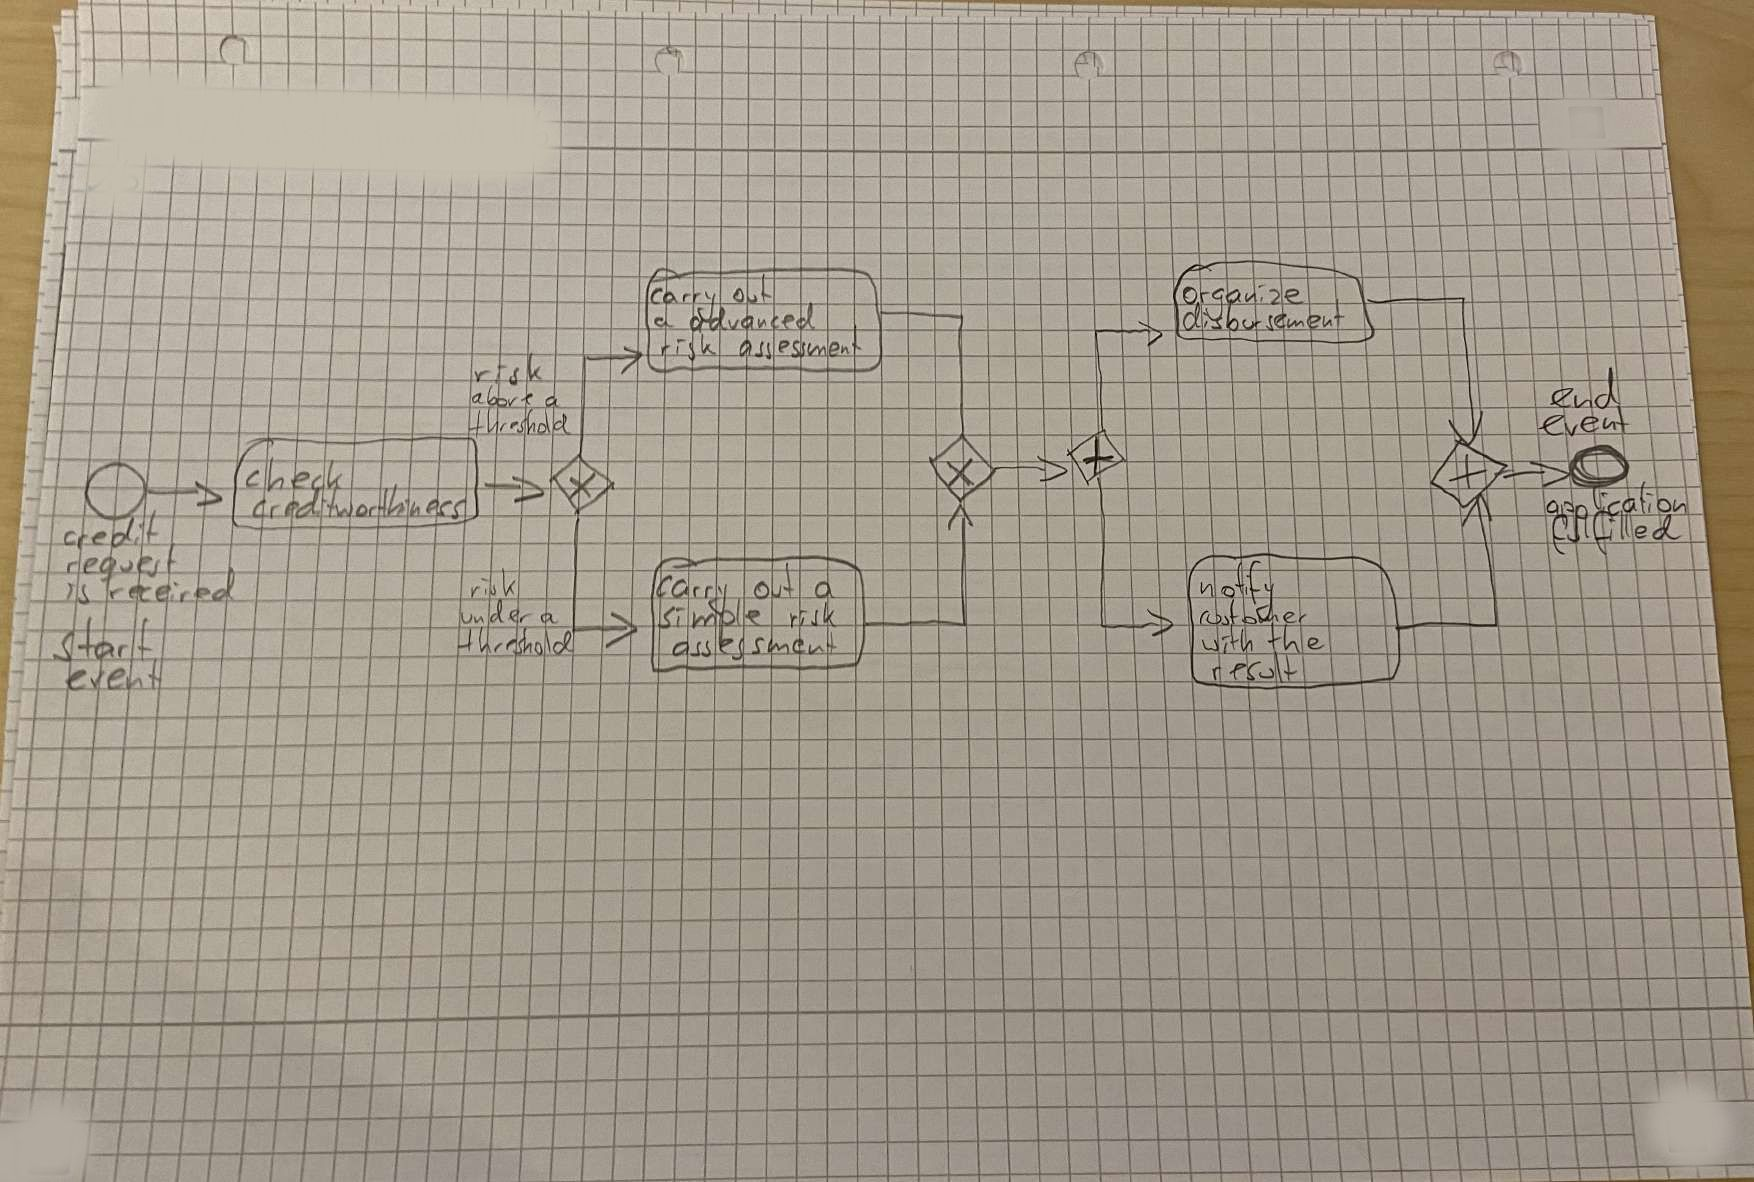a: (808, 576, 841, 603), (650, 311, 679, 336), (537, 606, 562, 632), (541, 390, 563, 413)
above: (469, 383, 538, 412)
advanced: (687, 299, 822, 338)
application: (1540, 478, 1692, 529)
assessment: (667, 628, 841, 665), (735, 321, 866, 365)
carry: (651, 570, 733, 620), (648, 284, 720, 325)
check: (240, 452, 348, 496)
credit: (58, 507, 164, 555)
creditworthiness: (247, 482, 471, 524)
customer: (1194, 595, 1314, 632)
disbursement: (1178, 303, 1346, 335)
end: (1546, 363, 1625, 414)
event: (59, 656, 166, 697), (1532, 404, 1634, 441)
fulfilled: (1546, 507, 1685, 559)
is: (61, 576, 95, 609)
notify: (1196, 555, 1279, 624)
organize: (1179, 282, 1303, 317)
out: (746, 558, 801, 604), (729, 272, 775, 309)
received: (104, 563, 243, 611)
request: (62, 538, 182, 595)
result: (1205, 648, 1303, 687)
risk: (469, 348, 550, 390), (655, 330, 721, 365), (466, 563, 520, 606), (785, 599, 841, 633)
simple: (654, 592, 768, 642)
start: (47, 612, 157, 668)
the: (1262, 620, 1328, 658)
threshold: (452, 623, 578, 661), (466, 405, 575, 441)
under: (455, 595, 538, 632)
with: (1196, 623, 1258, 658)
